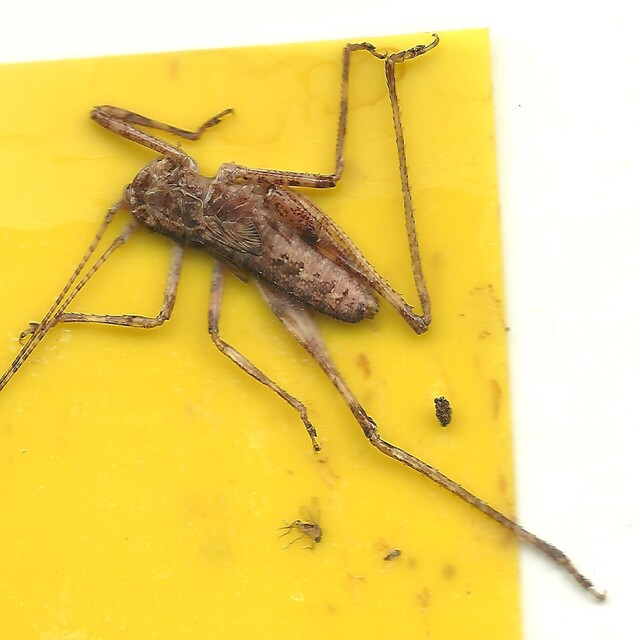Hemiptera: (372, 537, 403, 562)
Nematocera: (281, 500, 323, 551)
Orthoptera: (32, 40, 608, 600)
